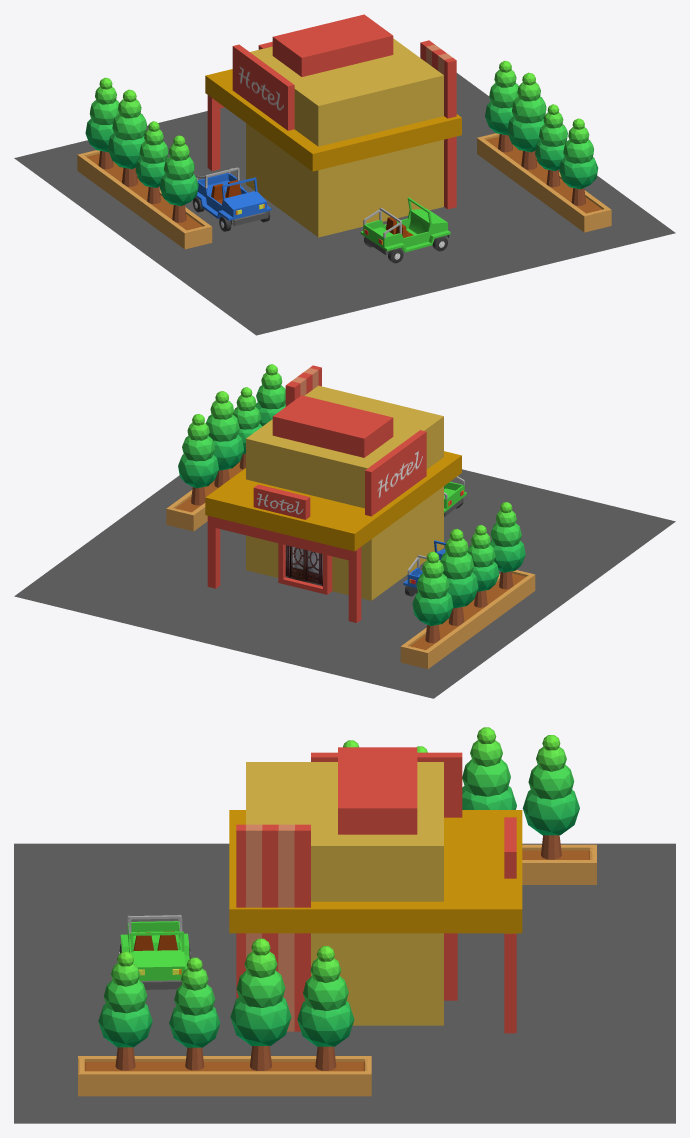
File: low_poly_hotel_scene.glb
3 views of the same model, one above another, from view 1: azimuth 30°, elevation 25°; view 2: azimuth 150°, elevation 25°; view 3: azimuth 270°, elevation 25° (orthographic). The views are drawn at different scales.
Visible parts, largest first — view 1: Plane, Hotel, Tree Holder.001, Tree Holder, Jeep Green, Jeep Blue, Tree.005, Tree.001, Tree.007, Tree.003, Tree.004, Tree (+2 smaller); view 2: Plane, Hotel, Tree Holder.001, Tree, Tree.004, Tree.005, Tree.001, Tree.007, Tree.006, Tree Holder, Tree.003, Tree.002 (+2 smaller); view 3: Plane, Hotel, Tree Holder, Tree.001, Tree, Tree.004, Jeep Green, Tree.003, Tree.002, Tree.005, Tree Holder.001.
Boxes of the visible parts, x1,y1,x2,y2 form: Plane: (14, 73, 675, 335); Hotel: (205, 14, 461, 237); Tree Holder.001: (77, 150, 212, 249); Tree Holder: (477, 133, 611, 232); Jeep Green: (360, 197, 450, 263); Jeep Blue: (192, 167, 271, 231); Tree.005: (108, 89, 146, 186); Tree.001: (507, 72, 546, 169); Tree.007: (160, 135, 198, 222); Tree.003: (559, 118, 598, 205); Tree.004: (85, 77, 118, 169); Tree: (485, 61, 518, 152); Plane: (14, 469, 675, 698); Hotel: (205, 365, 461, 622); Tree Holder.001: (400, 570, 535, 669); Tree: (178, 414, 218, 505); Tree.004: (412, 551, 453, 643); Tree.005: (440, 528, 478, 625); Tree.001: (206, 391, 243, 487); Tree.007: (490, 502, 525, 589); Tree.006: (467, 525, 499, 607); Tree Holder: (166, 461, 242, 531); Tree.003: (255, 364, 285, 426); Tree.002: (233, 387, 262, 469); Plane: (14, 843, 675, 1123); Hotel: (229, 747, 522, 1033); Tree Holder: (78, 1056, 371, 1096); Tree.001: (230, 938, 291, 1070); Tree: (297, 946, 354, 1070); Tree.004: (522, 735, 579, 859); Jeep Green: (119, 914, 190, 989); Tree.003: (98, 951, 152, 1070); Tree.002: (169, 957, 220, 1070); Tree.005: (462, 727, 516, 809); Tree Holder.001: (522, 844, 596, 884).
Size of the model in its own units: 668 by 230 by 668.
6 materials, 6 textured.
